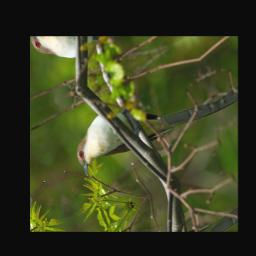Cuckoo: (65, 64, 222, 180)
